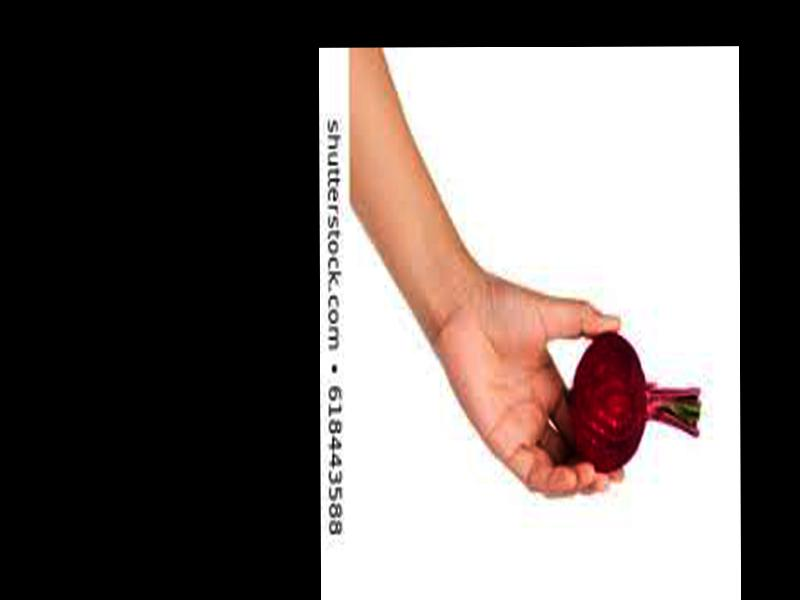Beet: (568, 333, 700, 476)
